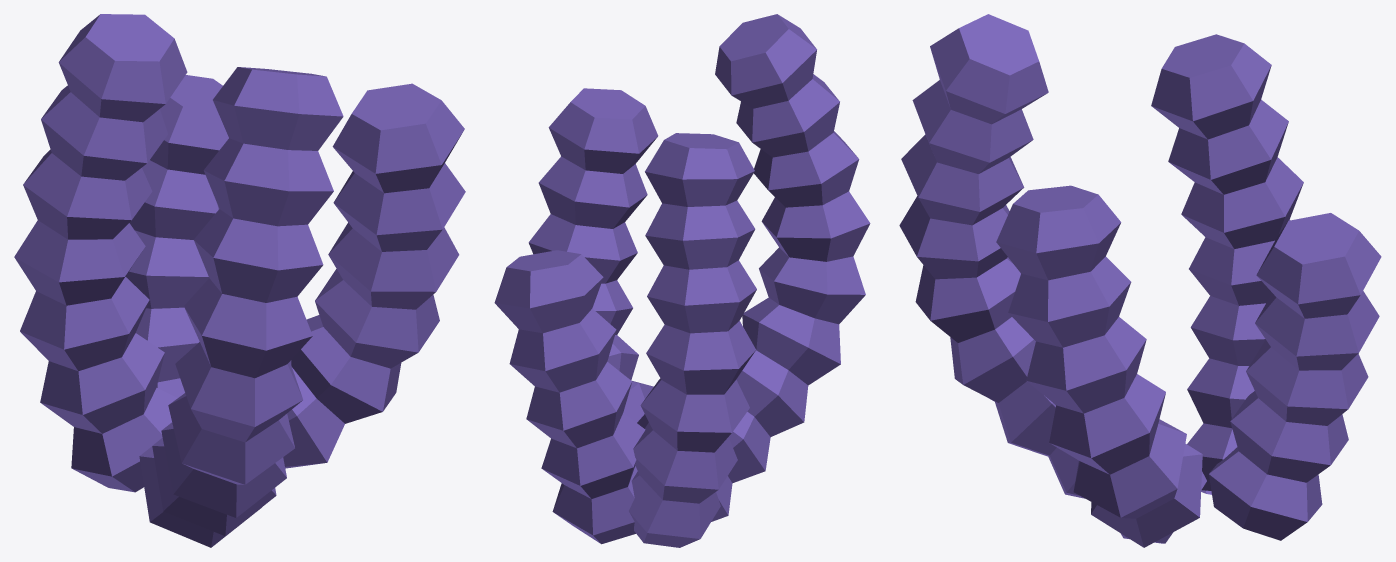
The model's file is Coral_17.fbx.
The picture shows the model from 3 angles, left to right: view 1: azimuth 30°, elevation 25°; view 2: azimuth 150°, elevation 25°; view 3: azimuth 270°, elevation 25°; orthographic projection. The views are drawn at different scales.
Visible parts, largest first — view 1: Coral_17; view 2: Coral_17; view 3: Coral_17.
Boxes of the visible parts, x1=… form: Coral_17: x1=14, y1=14, x2=465, y2=547; Coral_17: x1=494, y1=14, x2=870, y2=547; Coral_17: x1=899, y1=14, x2=1381, y2=547.
Size of the model in its own units: 35.65 by 54.4 by 46.46.
